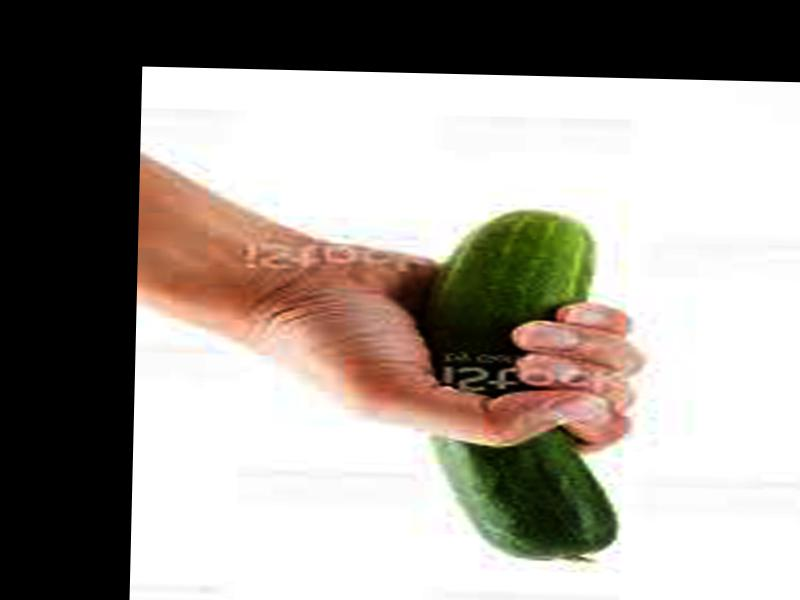Cucumber: (415, 210, 629, 561)
